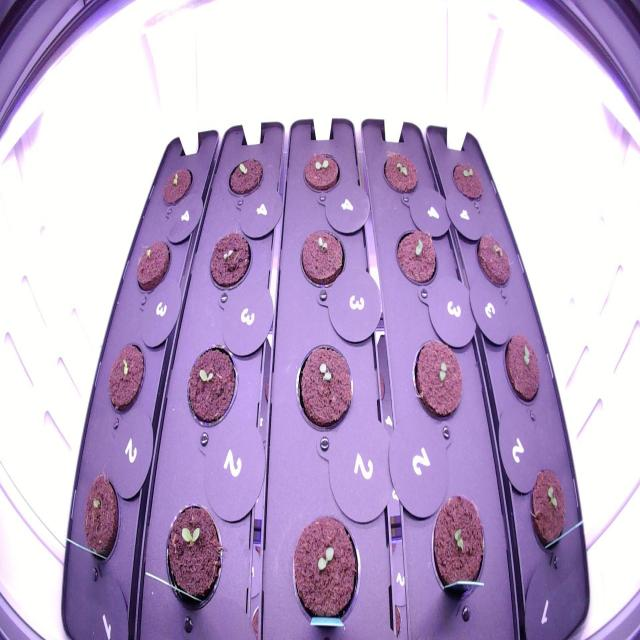germination: (285, 507, 367, 632), (160, 496, 230, 624), (424, 482, 490, 608), (290, 334, 358, 440), (75, 463, 132, 582), (179, 334, 241, 438), (406, 330, 469, 429), (524, 457, 570, 559), (293, 218, 349, 298), (102, 332, 150, 422), (202, 222, 255, 300), (500, 324, 546, 412), (389, 221, 442, 297), (471, 226, 517, 300), (296, 143, 344, 203), (131, 234, 175, 299), (377, 142, 424, 202), (220, 148, 270, 204), (446, 152, 492, 210), (156, 158, 200, 213)
